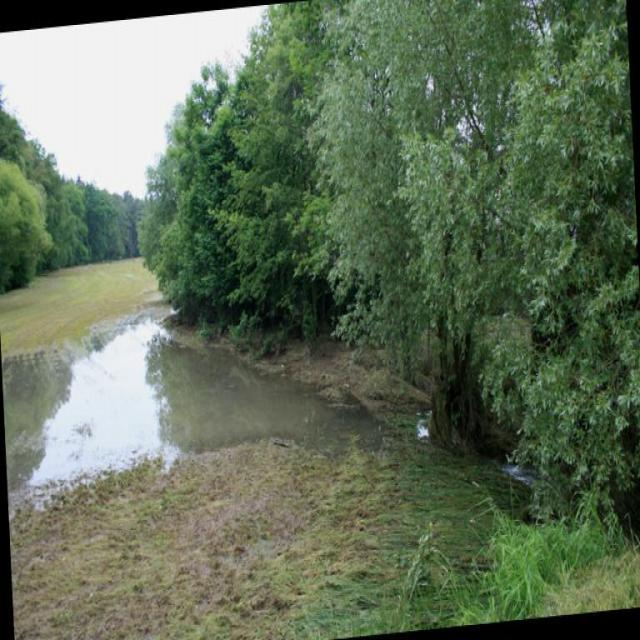flood: (0, 290, 382, 504)
